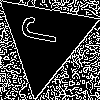J: (20, 14, 68, 47)
